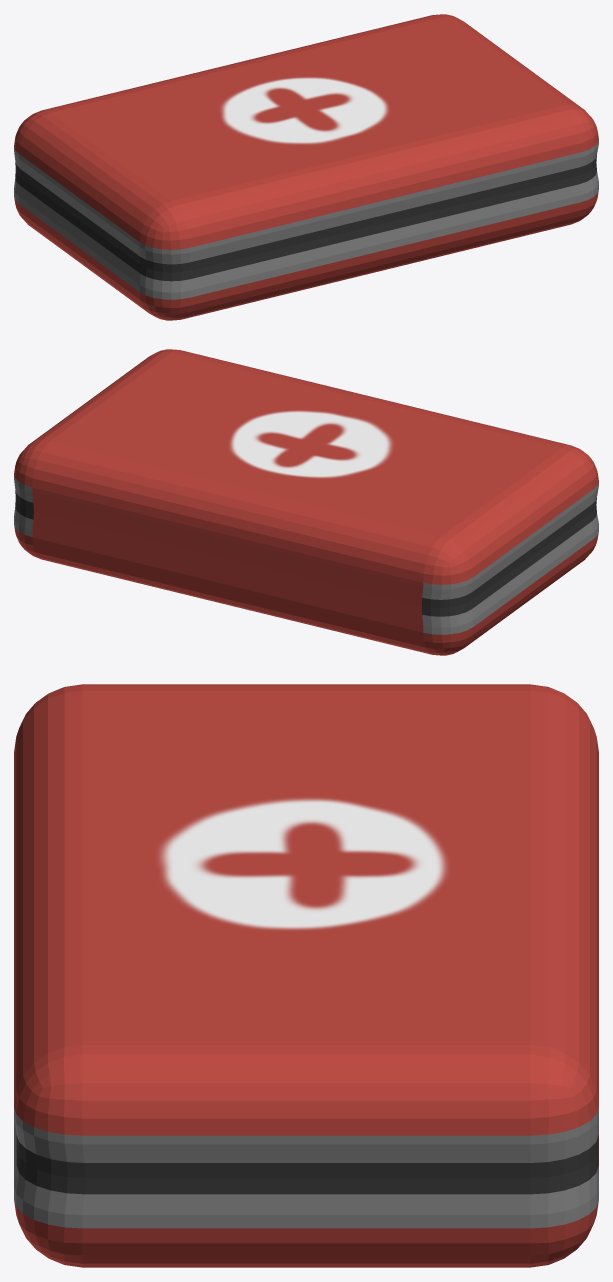
The model's file is Med  kit.fbx.
The picture shows the model from 3 angles, top to bottom: view 1: azimuth 30°, elevation 25°; view 2: azimuth 150°, elevation 25°; view 3: azimuth 270°, elevation 25°; orthographic projection. The views are drawn at different scales.
Parts seen in each view (by area): view 1: Cube; view 2: Cube; view 3: Cube.
Boxes of the visible parts, x1,y1,x2,y2 form: Cube: [14, 14, 598, 320]; Cube: [14, 349, 598, 655]; Cube: [14, 684, 598, 1267].
Bounding box in the file's own units: 200 × 49 × 120.
Materials: 4 (1 with a texture image).
